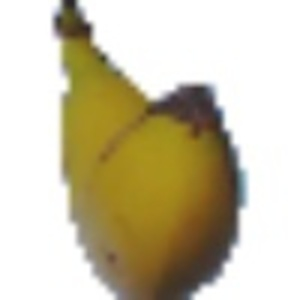banana: (44, 4, 251, 298)
